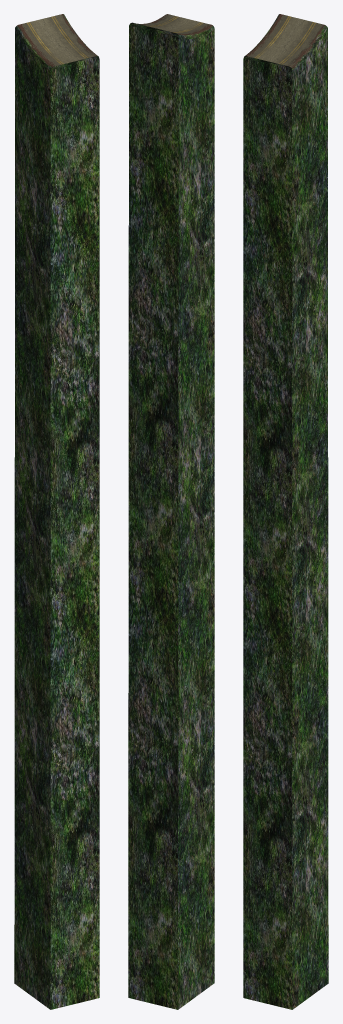
File: 30 bend ramp x.fbx
3 views of the same model, side by side, from view 1: azimuth 30°, elevation 25°; view 2: azimuth 150°, elevation 25°; view 3: azimuth 330°, elevation 25° (orthographic).
Visible parts, largest first — view 1: 45 bend ramp x; view 2: 45 bend ramp x; view 3: 45 bend ramp x.
Part boxes in pixels (x1,y1,x2,y2): 45 bend ramp x: (14,14,99,1009); 45 bend ramp x: (128,14,214,1009); 45 bend ramp x: (243,14,328,1009).
Size of the model in its own units: 410 by 7672 by 524.
